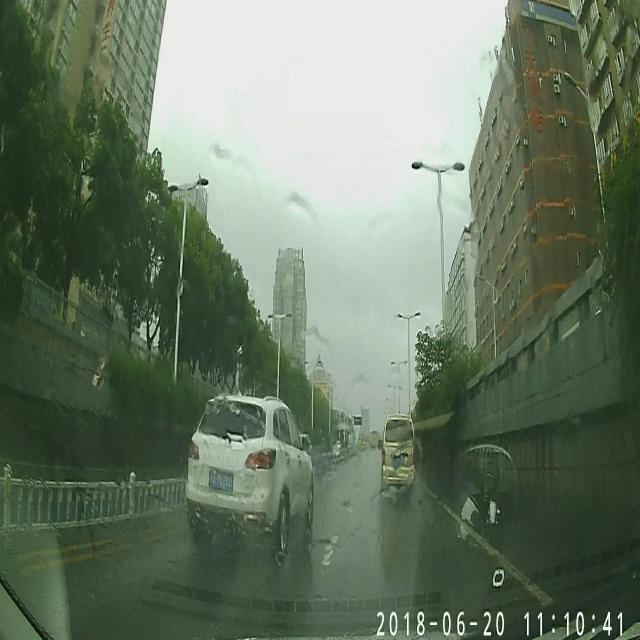car: (182, 391, 318, 542), (378, 412, 418, 490)
